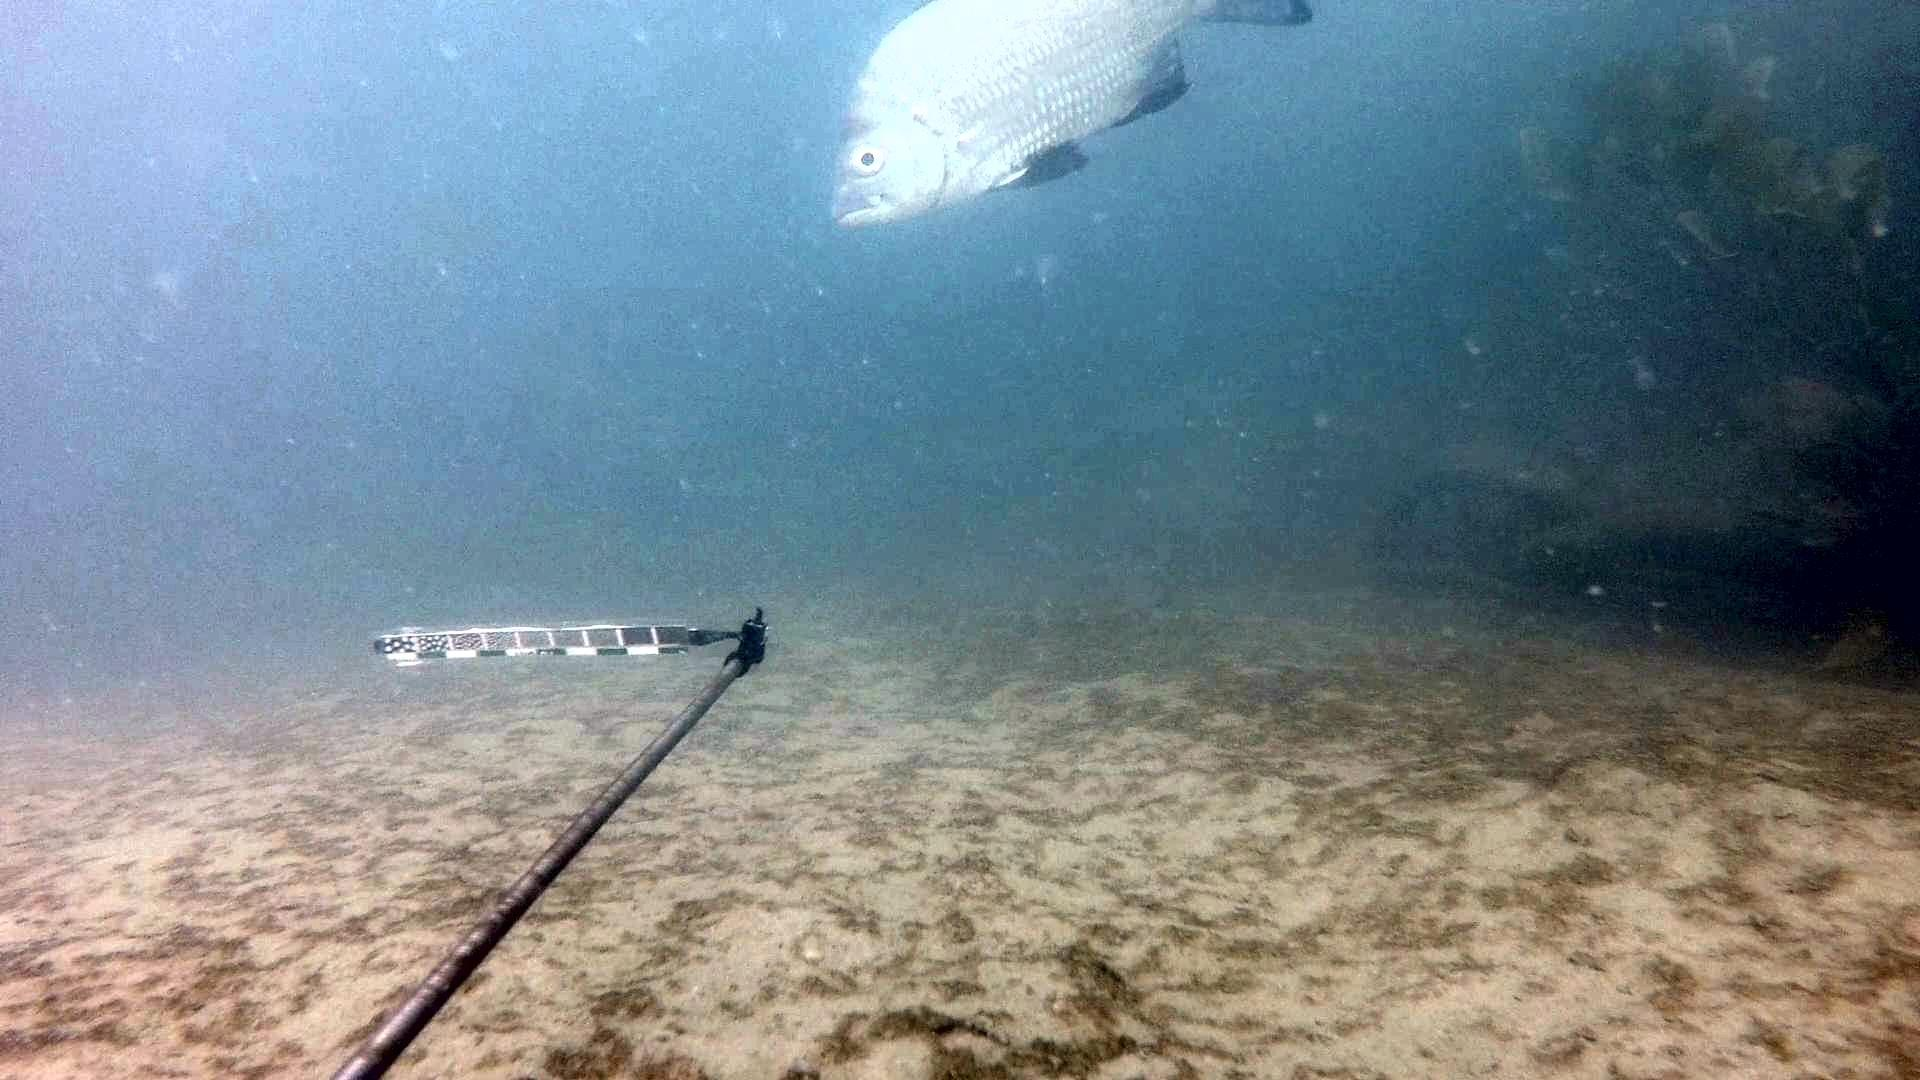acanthopagrus palmaris: (820, 0, 1328, 242)
